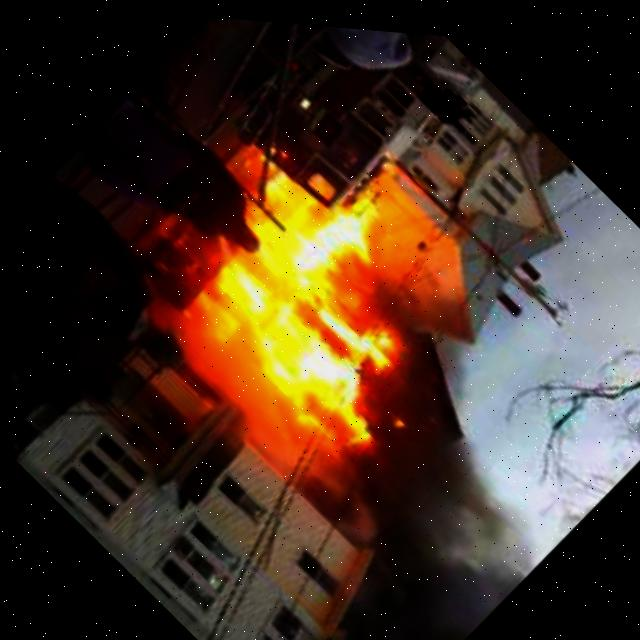Fire: (152, 140, 488, 488)
Smoke: (233, 375, 590, 640)
